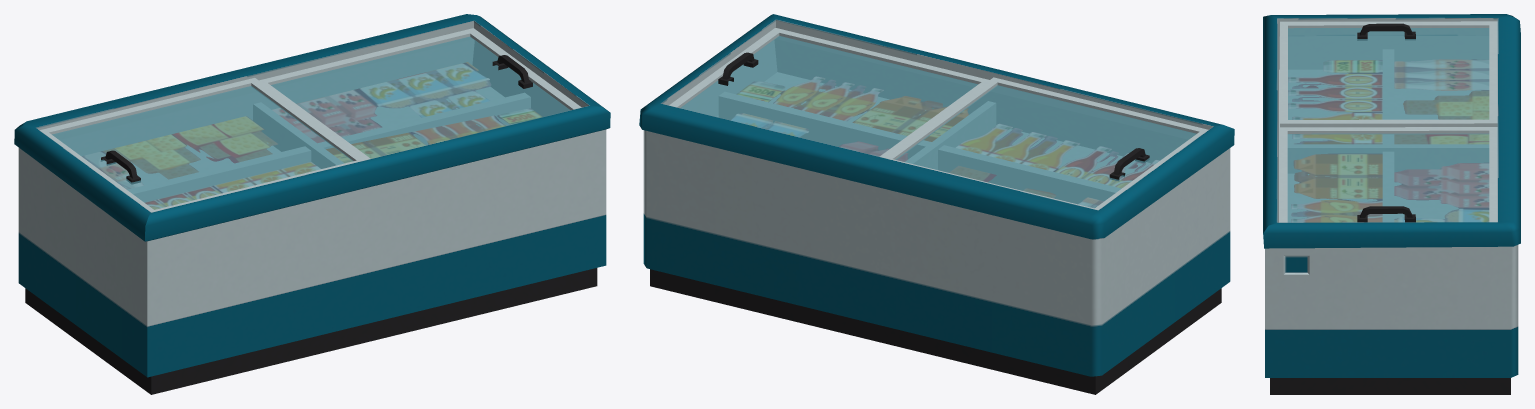
File: FreezerA.fbx
The picture shows the model from 3 angles, left to right: view 1: azimuth 30°, elevation 25°; view 2: azimuth 150°, elevation 25°; view 3: azimuth 270°, elevation 25°; orthographic projection. The views are drawn at different scales.
Parts seen in each view (by area): view 1: FreezerA; view 2: FreezerA; view 3: FreezerA.
Boxes of the visible parts, bbox=[...] form: FreezerA: bbox=[14, 14, 610, 394]; FreezerA: bbox=[639, 14, 1234, 394]; FreezerA: bbox=[1263, 14, 1520, 394].
Size of the model in its own units: 289 by 110 by 145.
